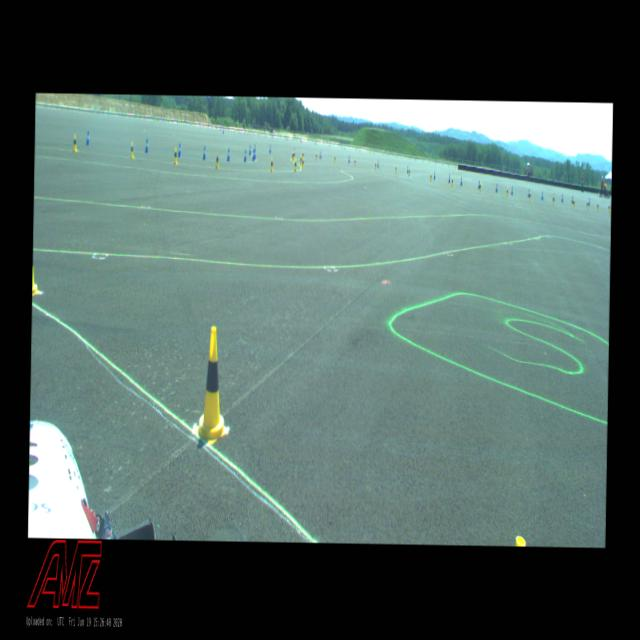blue_cone: (85, 130, 89, 145), (144, 138, 148, 152), (202, 146, 205, 160), (227, 148, 230, 161), (178, 142, 180, 157), (252, 150, 255, 160), (244, 148, 246, 162), (248, 144, 250, 154), (496, 183, 498, 192), (269, 144, 271, 153), (448, 173, 450, 182), (560, 193, 562, 202), (460, 177, 462, 186), (511, 186, 513, 195), (540, 191, 542, 200), (528, 188, 530, 197), (478, 179, 480, 188), (433, 170, 435, 179), (588, 197, 590, 205), (348, 155, 350, 163), (571, 195, 573, 203)
yellow_cone: (195, 326, 228, 444), (32, 250, 40, 295), (72, 133, 76, 151), (130, 140, 134, 158), (174, 147, 178, 164), (216, 152, 220, 168), (270, 156, 273, 172), (429, 172, 432, 182), (294, 158, 296, 171), (300, 154, 302, 166), (506, 186, 508, 197), (302, 158, 304, 168), (292, 150, 294, 160), (374, 160, 376, 170), (302, 150, 304, 160), (572, 198, 574, 208), (552, 194, 554, 204), (293, 150, 295, 160), (479, 182, 481, 192), (315, 152, 317, 161), (608, 203, 610, 212), (450, 177, 452, 186), (394, 164, 396, 173), (408, 167, 410, 176), (354, 157, 356, 165), (596, 202, 598, 210), (334, 155, 336, 163), (586, 201, 588, 209), (528, 192, 530, 200)
